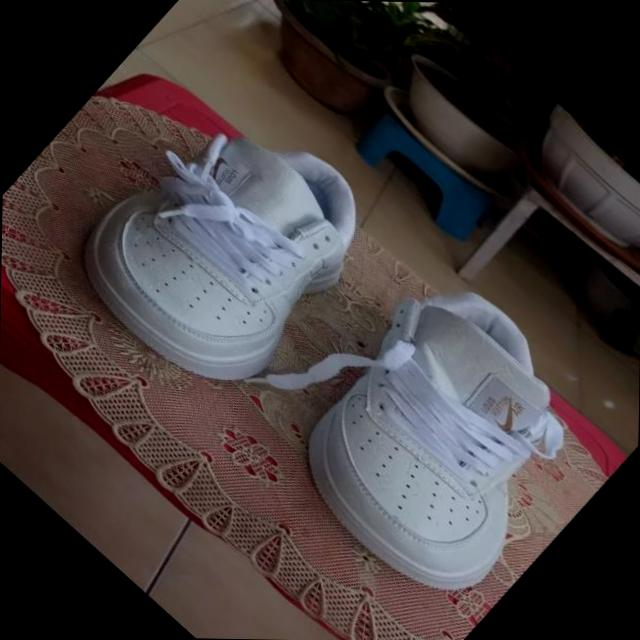nike_fake_airforce: (253, 245, 639, 631), (48, 65, 404, 423)
